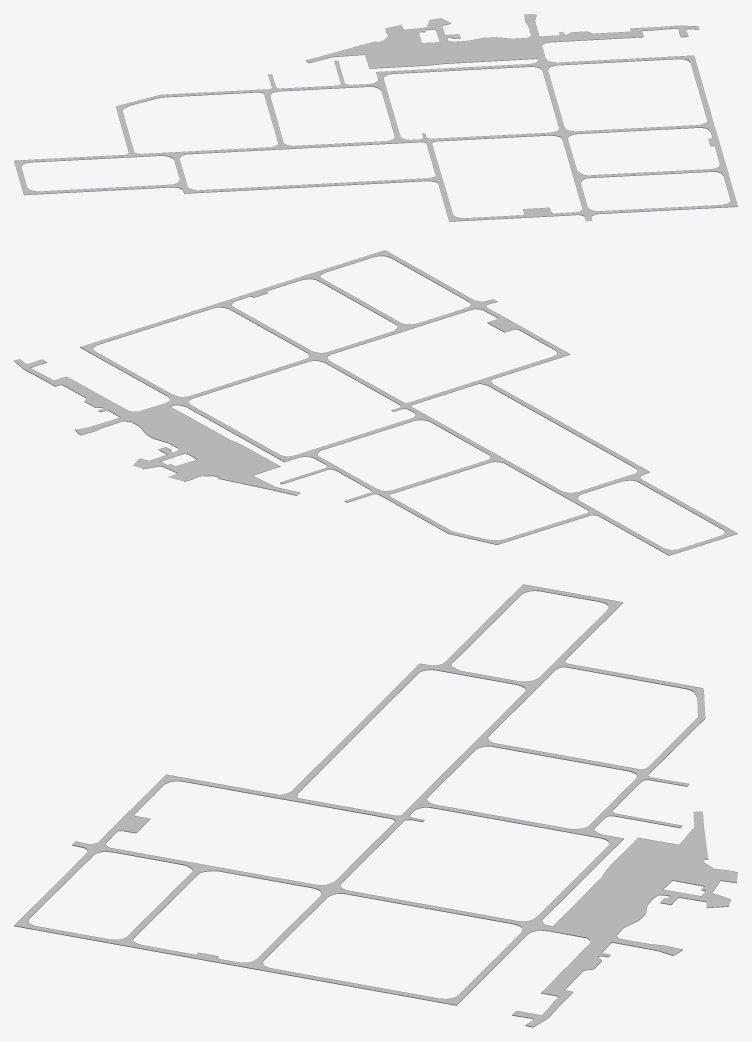
The model's file is road_p06_03.fbx.
3 views of the same model, one above another, from view 1: azimuth 30°, elevation 25°; view 2: azimuth 150°, elevation 25°; view 3: azimuth 270°, elevation 25° (orthographic). The views are drawn at different scales.
Parts seen in each view (by area): view 1: road_p06_03; view 2: road_p06_03; view 3: road_p06_03.
Boxes of the visible parts, x1=… form: road_p06_03: x1=14, y1=14, x2=737, y2=221; road_p06_03: x1=14, y1=250, x2=737, y2=555; road_p06_03: x1=14, y1=584, x2=737, y2=1027.
Bounding box in the file's own units: 86226 × 70.49 × 59579.
